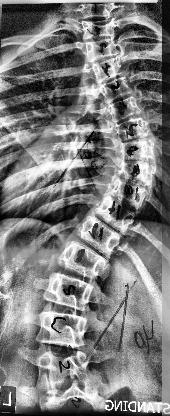Vertebrae: (34, 346, 99, 388), (57, 236, 109, 284), (45, 268, 97, 312), (37, 307, 91, 349), (89, 192, 135, 238), (73, 211, 119, 255), (38, 382, 102, 412), (110, 179, 150, 211), (116, 158, 156, 190), (114, 138, 162, 164), (112, 116, 154, 142), (108, 97, 142, 125), (82, 36, 119, 61), (90, 59, 126, 83), (98, 78, 132, 100)
